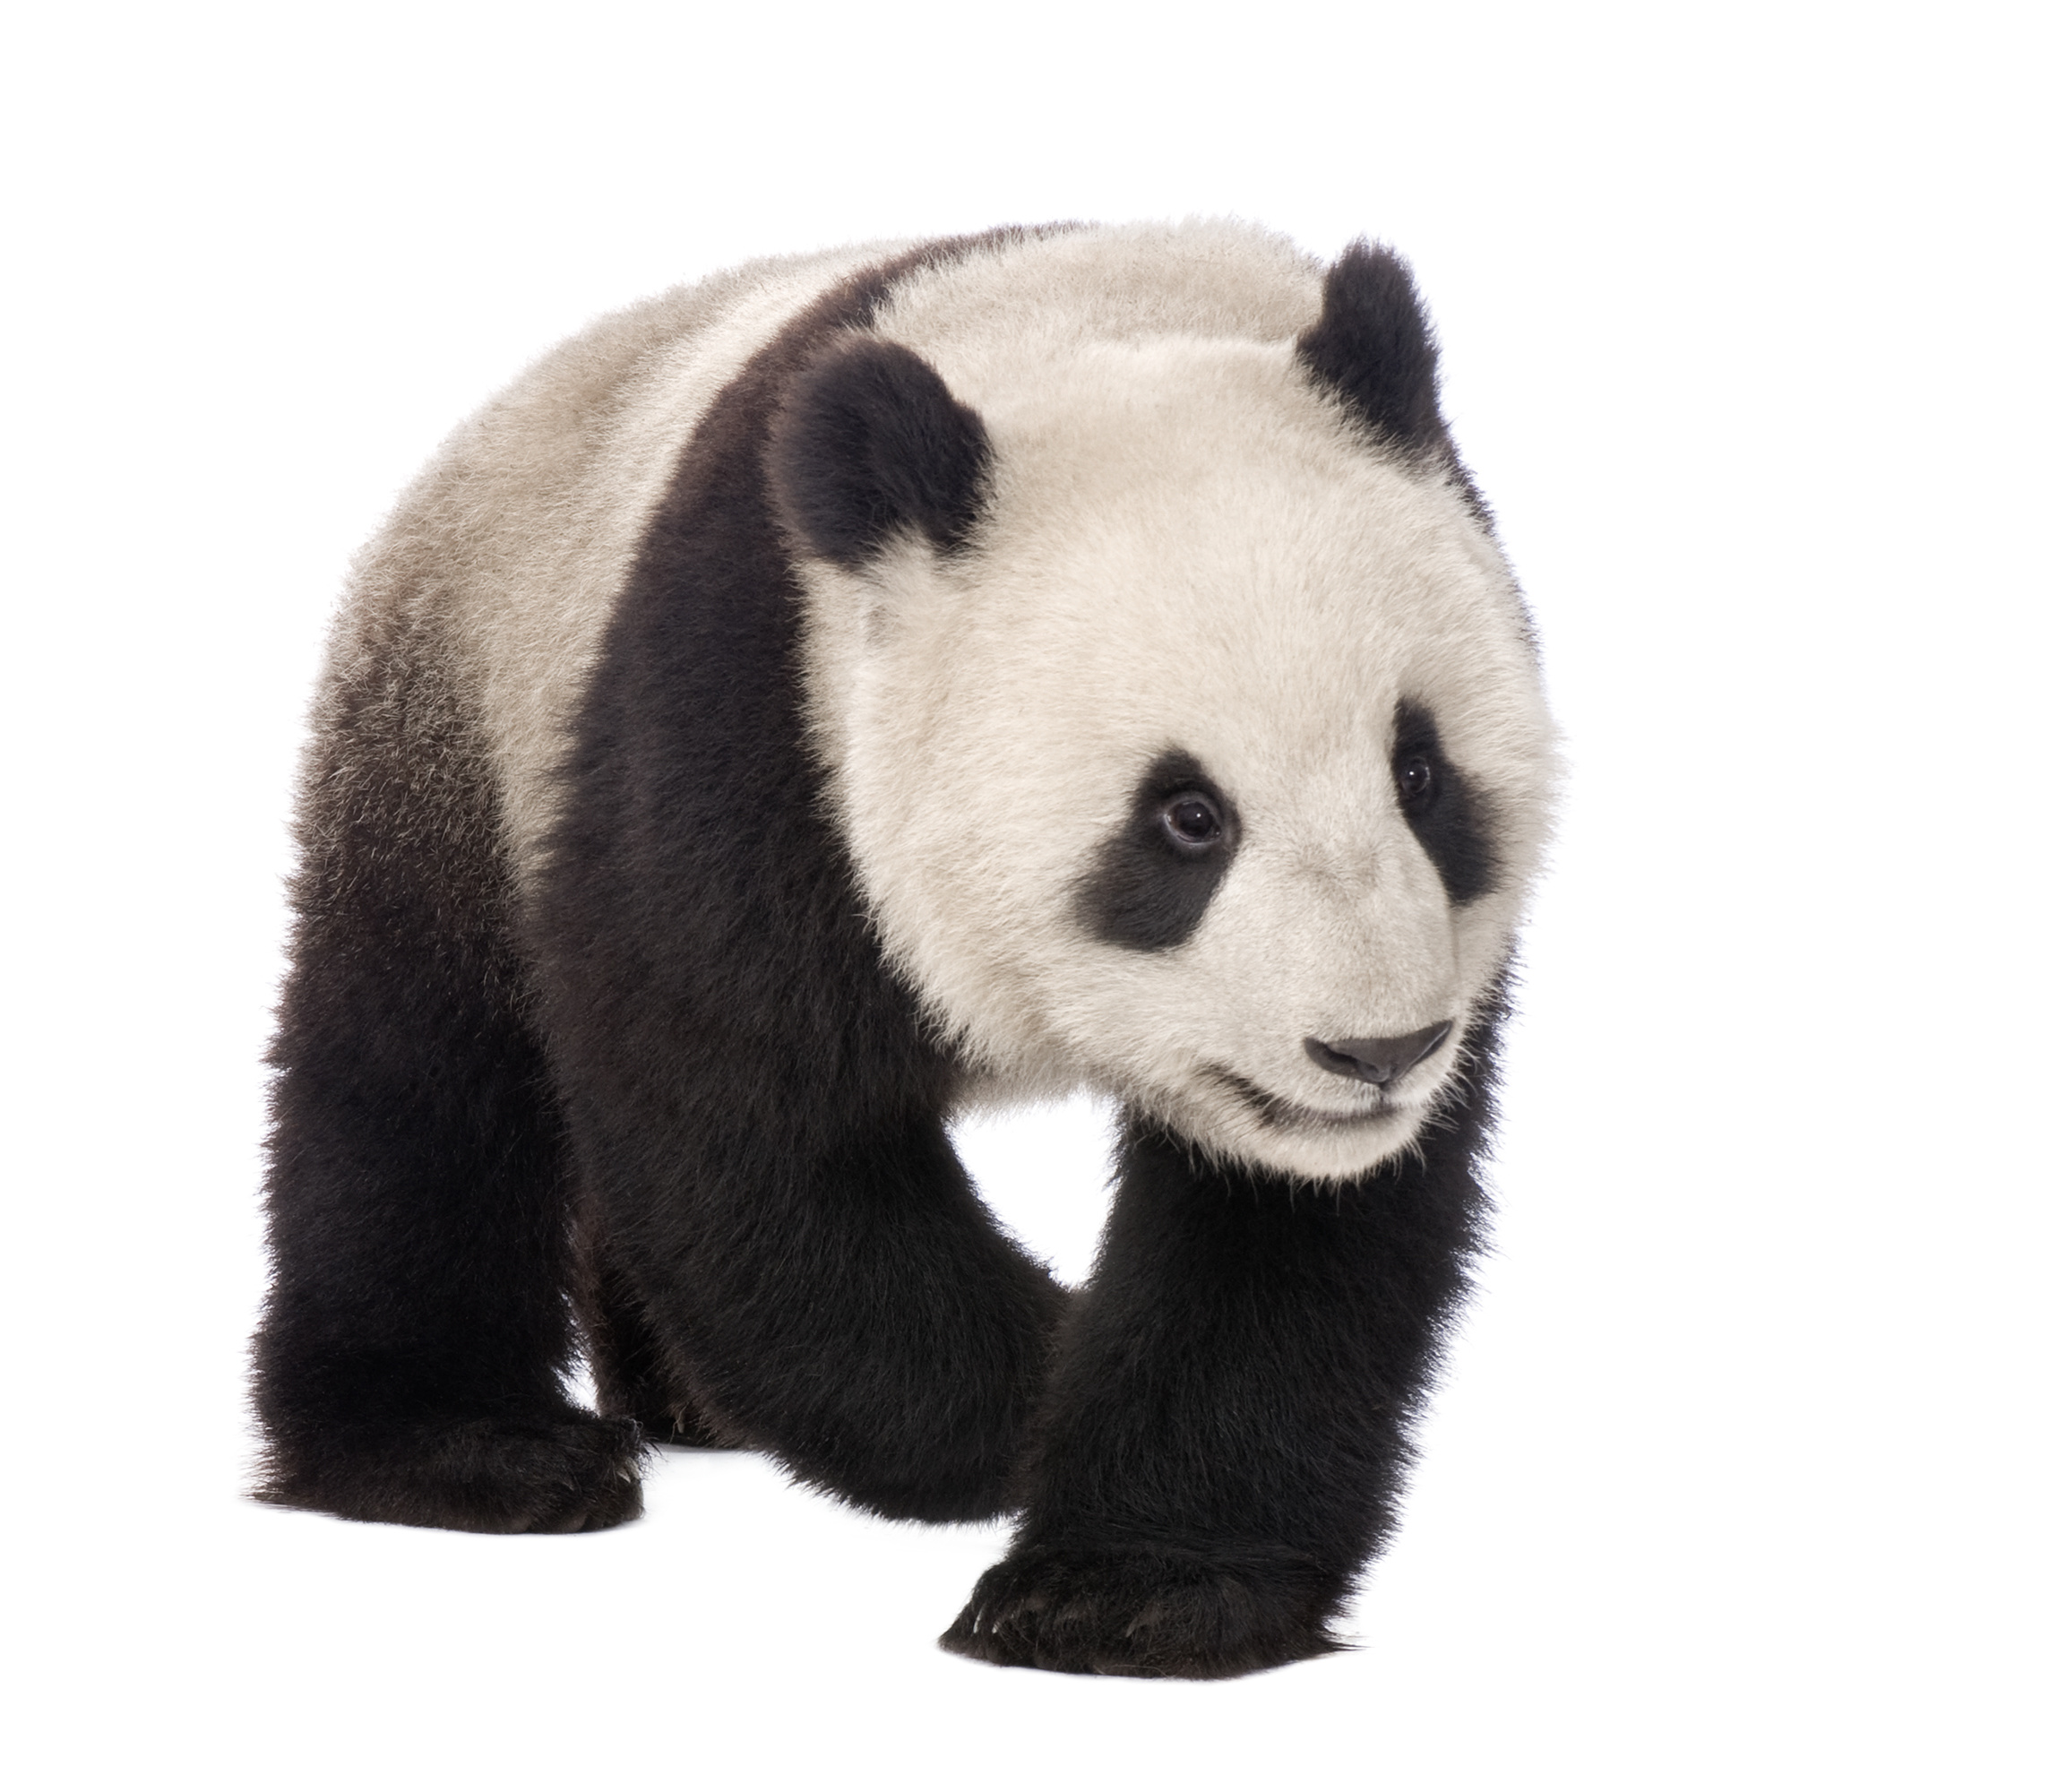panda: (214, 157, 1619, 1712)
